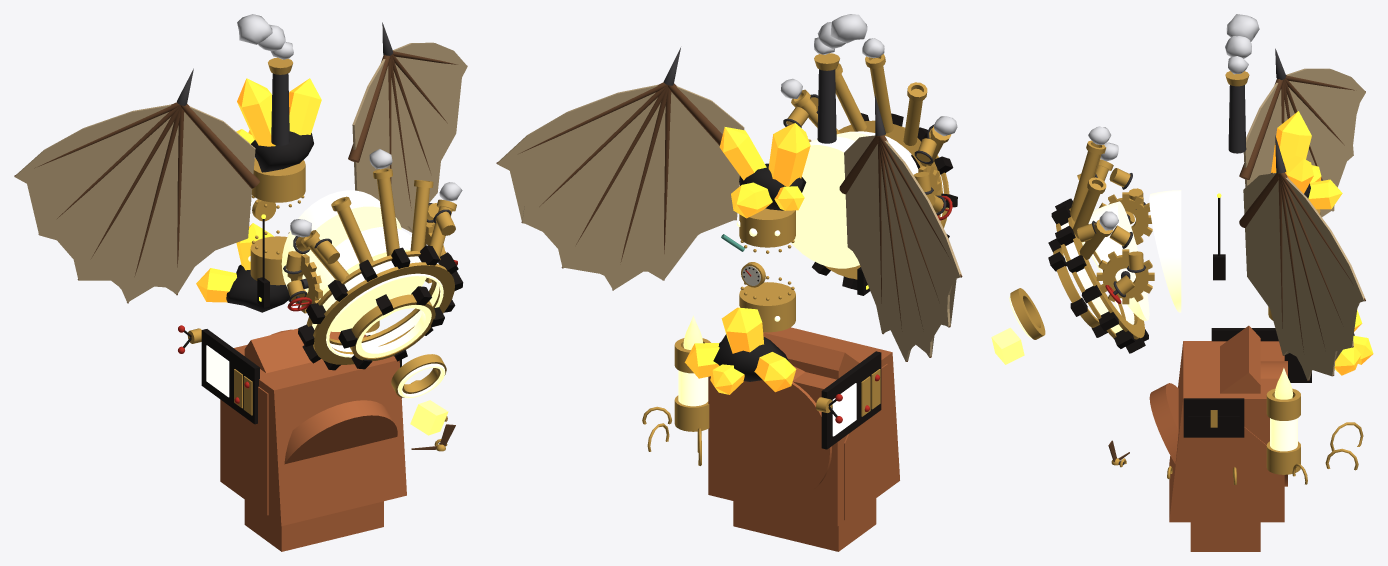
Rendered from CopperSteamMine_Roblox.fbx.
3 renders of one model, left to right at view 1: azimuth 30°, elevation 25°; view 2: azimuth 150°, elevation 25°; view 3: azimuth 270°, elevation 25°, orthographic. The views are drawn at different scales.
Visible parts, largest first — view 1: WingCanvas, CopperPlate, Brass, Neon, WingSpar, Black, Crystal, Coal, Steam, Iron, Ore, Screen; view 2: WingCanvas, CopperPlate, Brass, Crystal, Neon, WingSpar, Black, Steam, Iron, Coal, Screen; view 3: WingCanvas, CopperPlate, Brass, Black, Neon, WingSpar, Crystal, Steam, Iron, Ore.
Part boxes in pixels (<box>): WingCanvas: <box>15,42,467,303</box>; CopperPlate: <box>220,328,406,551</box>; Brass: <box>187,57,456,451</box>; Neon: <box>248,190,445,398</box>; WingSpar: <box>14,50,457,449</box>; Black: <box>183,219,463,424</box>; Crystal: <box>196,78,321,302</box>; Coal: <box>226,131,313,312</box>; Steam: <box>237,14,462,237</box>; Iron: <box>177,22,451,443</box>; Ore: <box>410,400,448,435</box>; Screen: <box>206,345,229,397</box>; WingCanvas: <box>497,84,962,361</box>; CopperPlate: <box>708,327,899,551</box>; Brass: <box>642,53,951,465</box>; Crystal: <box>684,123,810,394</box>; Neon: <box>678,131,943,406</box>; WingSpar: <box>496,82,962,361</box>; Black: <box>743,113,957,449</box>; Steam: <box>780,14,957,136</box>; Iron: <box>663,47,946,215</box>; Coal: <box>713,163,806,381</box>; Screen: <box>832,383,856,436</box>; WingCanvas: <box>1243,68,1365,380</box>; CopperPlate: <box>1149,325,1287,551</box>; Brass: <box>1010,71,1363,484</box>; Black: <box>1048,198,1311,437</box>; Neon: <box>1009,190,1297,451</box>; WingSpar: <box>1108,75,1365,461</box>; Crystal: <box>1271,111,1373,375</box>; Steam: <box>1088,14,1259,230</box>; Iron: <box>1092,48,1286,465</box>; Ore: <box>991,327,1024,364</box>.
Bounding box in the file's own units: 2127 × 2311 × 1641.
